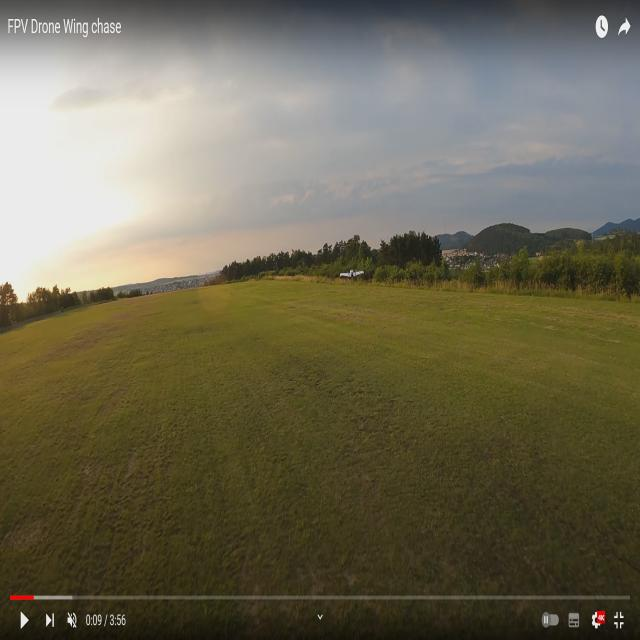iha: (340, 269, 364, 281)
